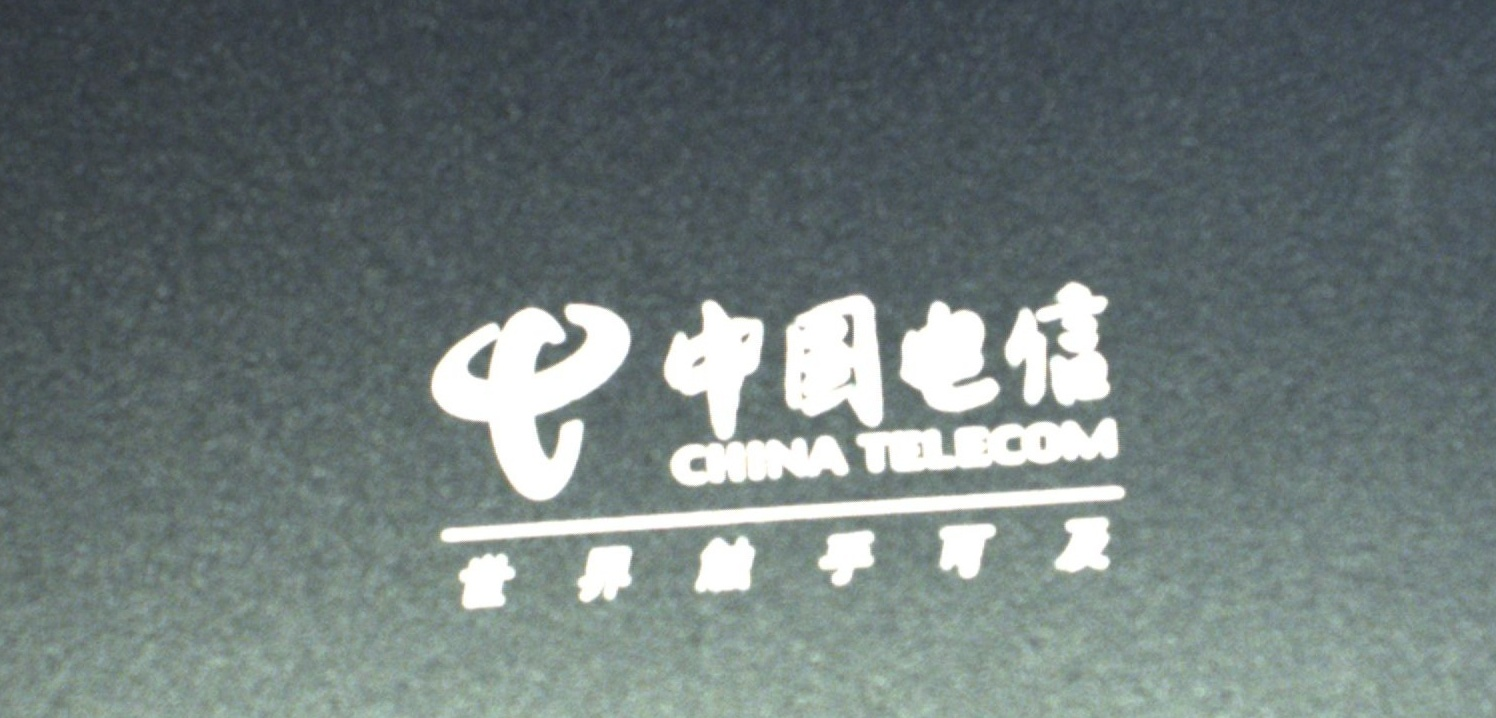AB_ChinaTelecom: (412, 281, 1135, 614)
